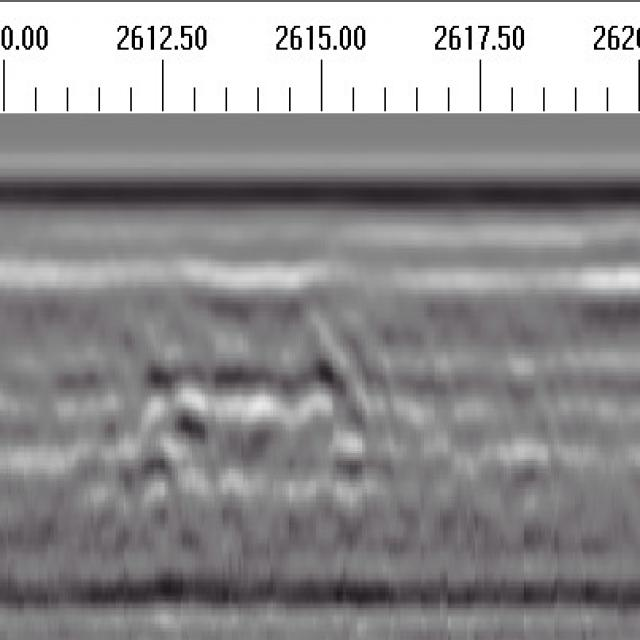loose: (113, 341, 381, 518)
